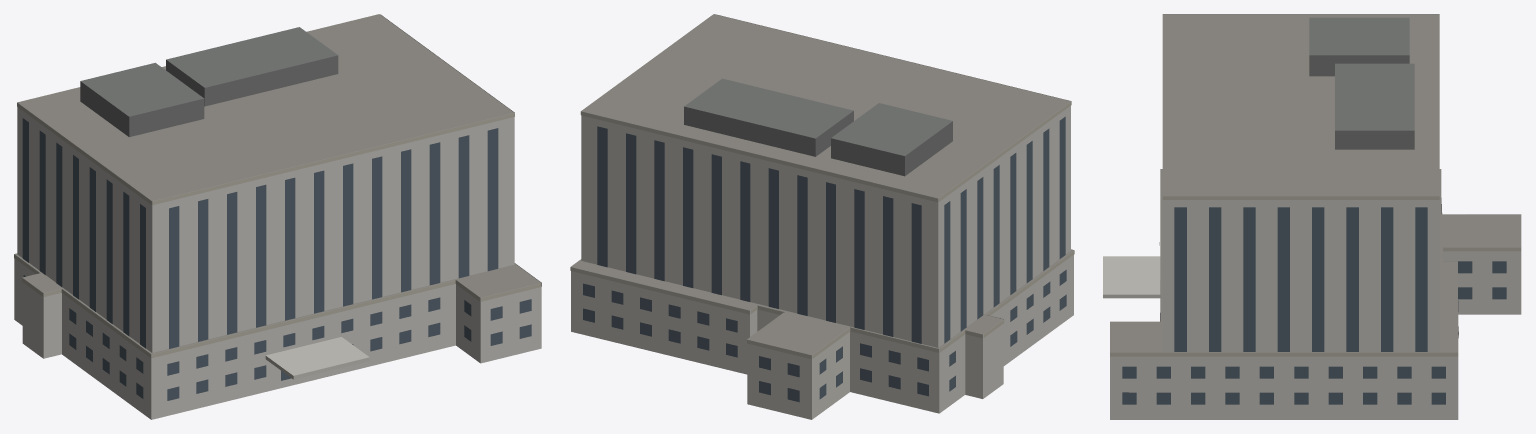
Rendered from red-carpet-inn.glb.
The picture shows the model from 3 angles, left to right: view 1: azimuth 30°, elevation 25°; view 2: azimuth 150°, elevation 25°; view 3: azimuth 270°, elevation 25°; orthographic projection. The views are drawn at different scales.
Visible parts, largest first — view 1: red_carpet_inn; view 2: red_carpet_inn; view 3: red_carpet_inn.
Boxes of the visible parts, box(x1,y1,x2,y2) form: red_carpet_inn: box(14, 14, 541, 419); red_carpet_inn: box(570, 14, 1074, 419); red_carpet_inn: box(1103, 14, 1521, 419).
Bounding box in the file's own units: 47.8 × 28.21 × 43.85.
